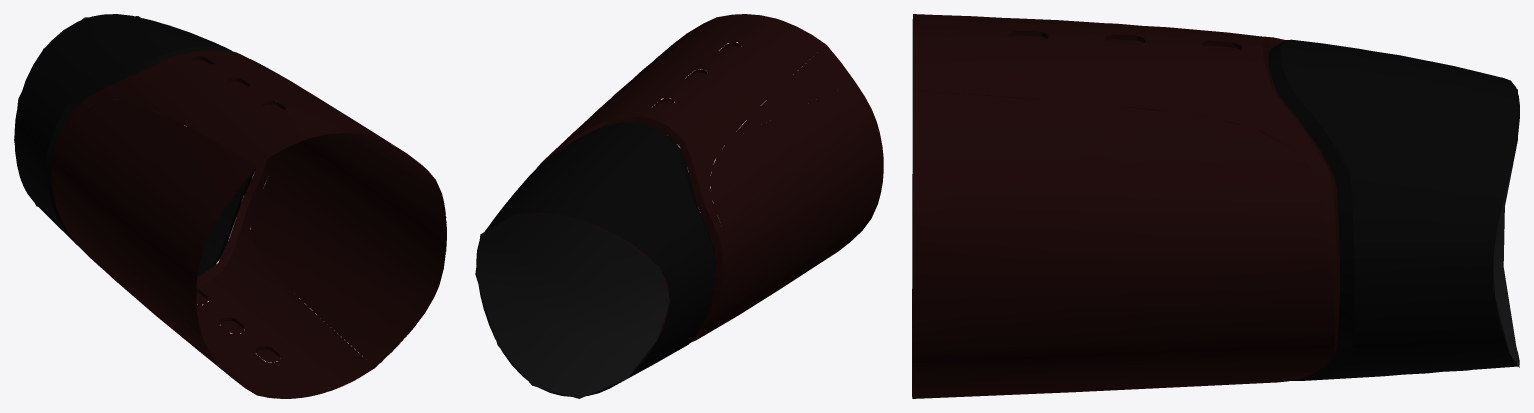
File: sim_gene01_l_wrist_1.obj
3 renders of one model, left to right at view 1: azimuth 30°, elevation 25°; view 2: azimuth 150°, elevation 25°; view 3: azimuth 270°, elevation 25°, orthographic. The views are drawn at different scales.
Parts seen in each view (by area): view 1: sim_gene01_l_wrist_1; view 2: sim_gene01_l_wrist_1; view 3: sim_gene01_l_wrist_1.
Boxes of the visible parts, x1=… form: sim_gene01_l_wrist_1: x1=14, y1=14, x2=446, y2=398; sim_gene01_l_wrist_1: x1=475, y1=14, x2=883, y2=398; sim_gene01_l_wrist_1: x1=912, y1=14, x2=1519, y2=398.
Bounding box in the file's own units: 120 × 118 × 188.
